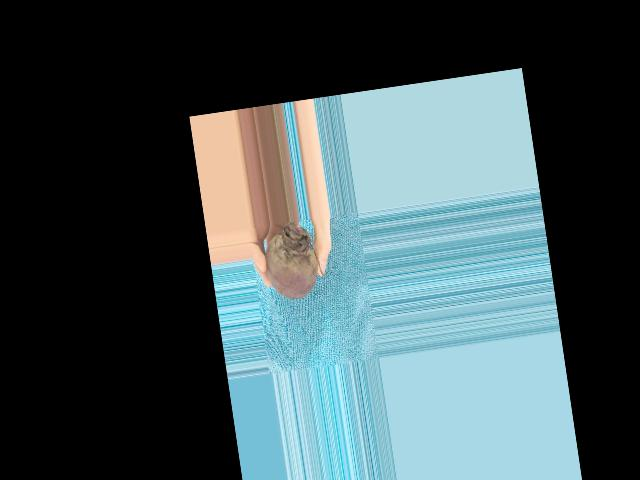beet: (260, 219, 328, 302)
